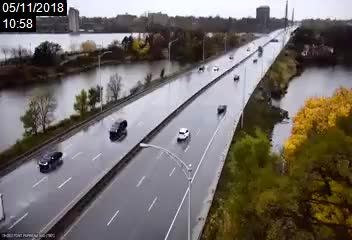personal_car: (38, 151, 63, 172), (108, 118, 129, 139), (176, 126, 191, 143), (216, 104, 228, 115), (198, 63, 205, 72), (233, 74, 240, 81), (212, 65, 219, 71)
